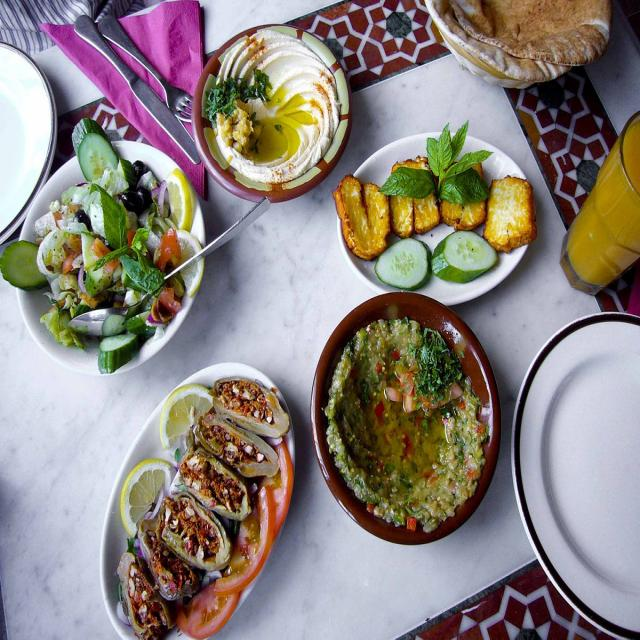non-organic waste: (335, 120, 596, 327), (527, 295, 640, 640), (183, 0, 356, 179)
